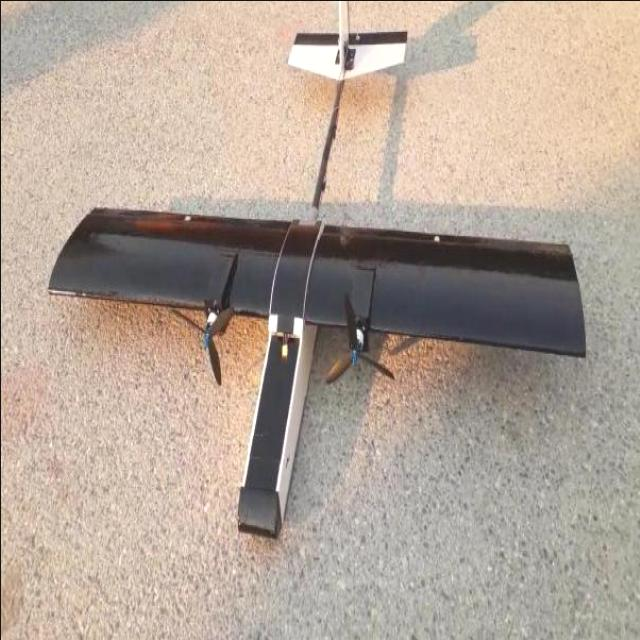plane: (44, 0, 586, 538)
